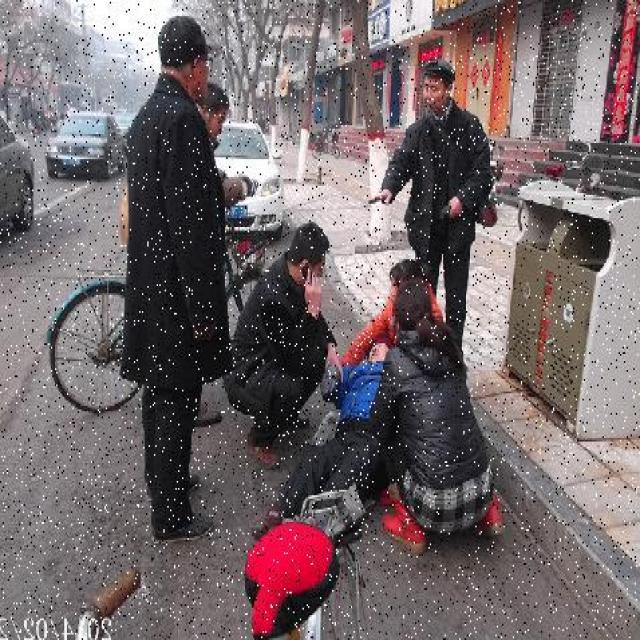fall: (272, 336, 403, 524)
